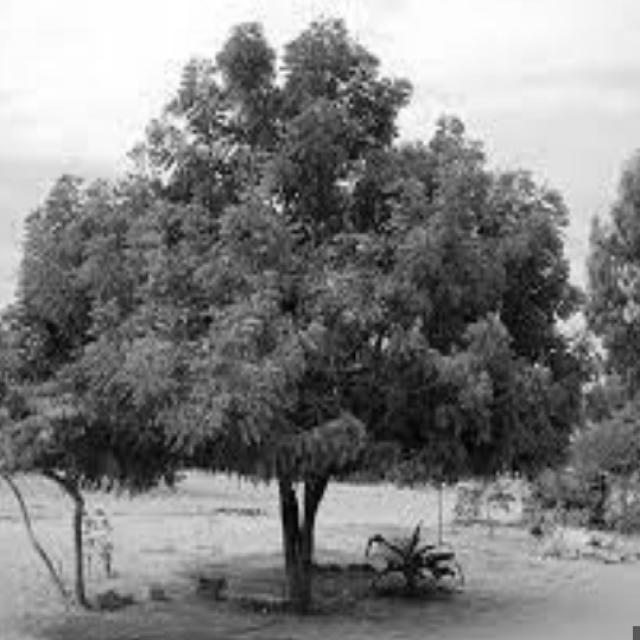Neem-Tree: (22, 66, 573, 456)
